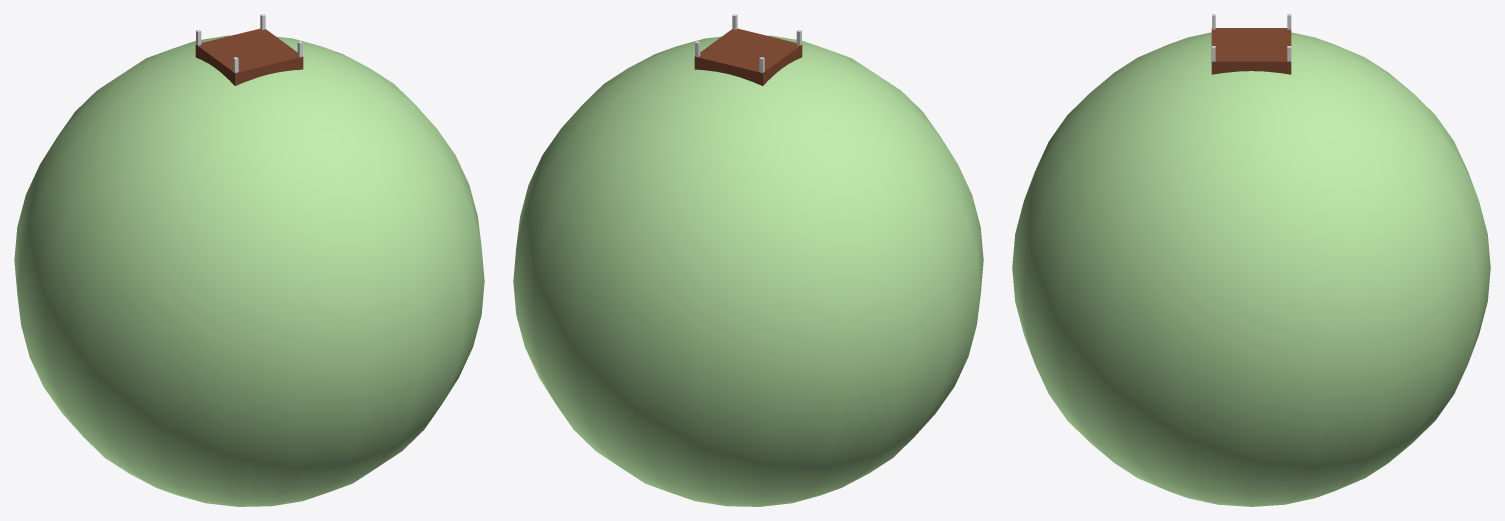
The model's file is first_planet.fbx.
The picture shows the model from 3 angles, left to right: view 1: azimuth 30°, elevation 25°; view 2: azimuth 150°, elevation 25°; view 3: azimuth 270°, elevation 25°; orthographic projection.
Visible parts, largest first — view 1: pasted__pasted__pasted__pCube2; view 2: pasted__pasted__pasted__pCube2; view 3: pasted__pasted__pasted__pCube2.
Boxes of the visible parts, x1,y1,x2,y2 form: pasted__pasted__pasted__pCube2: (14, 14, 484, 506); pasted__pasted__pasted__pCube2: (513, 14, 983, 506); pasted__pasted__pasted__pCube2: (1012, 14, 1490, 506).
Bounding box in the file's own units: 60 × 62.8 × 60.
